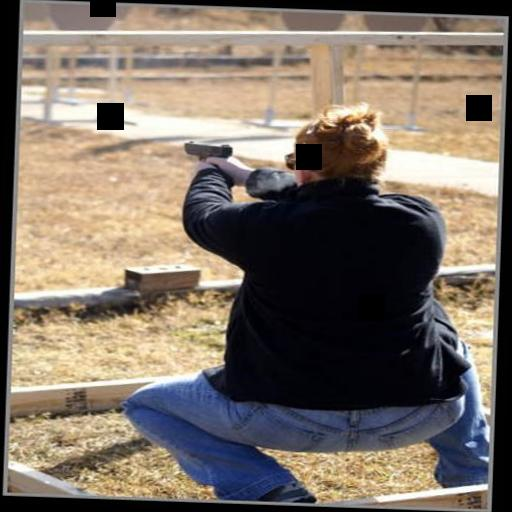Handgun: (178, 137, 238, 185)
